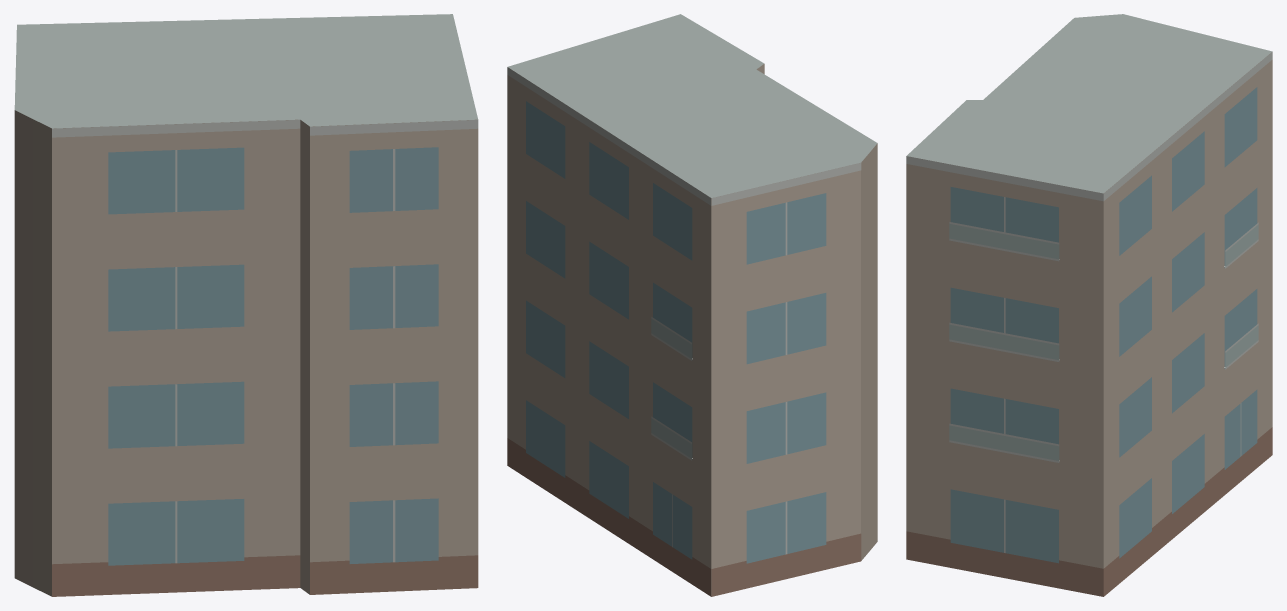
File: survey-upis-32727847.glb
3 views of the same model, side by side, from view 1: azimuth 30°, elevation 25°; view 2: azimuth 150°, elevation 25°; view 3: azimuth 270°, elevation 25° (orthographic). The views are drawn at different scales.
Visible parts, largest first — view 1: survey-upis-32727847.tmp; view 2: survey-upis-32727847.tmp; view 3: survey-upis-32727847.tmp.
Boxes of the visible parts, x1,y1,x2,y2 form: survey-upis-32727847.tmp: [14, 14, 478, 596]; survey-upis-32727847.tmp: [507, 14, 877, 596]; survey-upis-32727847.tmp: [906, 14, 1272, 596].
Size of the model in its own units: 11.94 by 12.5 by 10.3.
